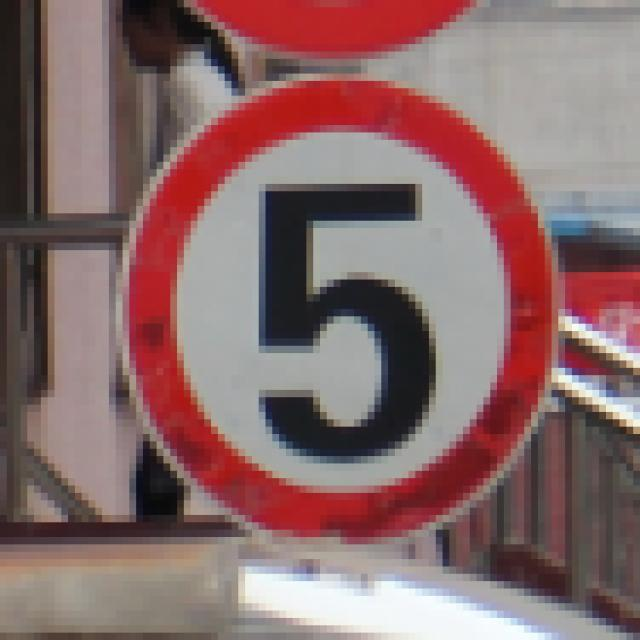Speed: (110, 56, 580, 554)
